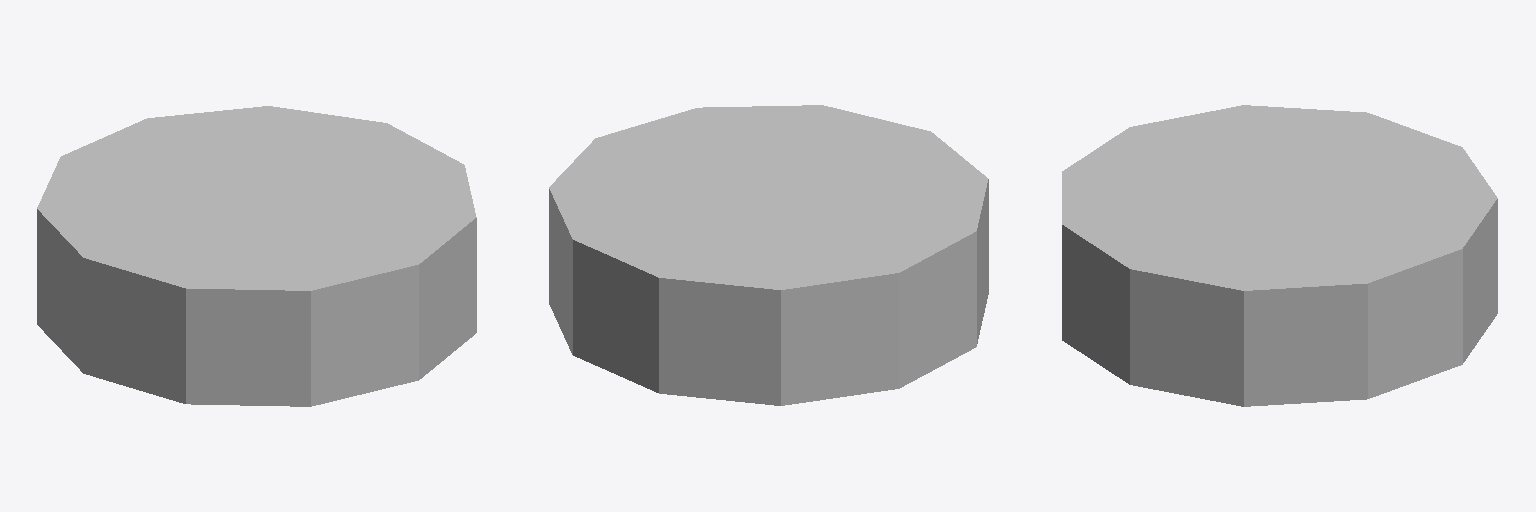
Rendered from hen1.obj.
3 renders of one model, left to right at view 1: azimuth 30°, elevation 25°; view 2: azimuth 150°, elevation 25°; view 3: azimuth 270°, elevation 25°, orthographic.
Parts seen in each view (by area): view 1: Circle; view 2: Circle; view 3: Circle.
Part boxes in pixels (x1,y1,x2,y2): Circle: (37,106,476,406); Circle: (549,105,988,405); Circle: (1062,105,1497,406).
Size of the model in its own units: 1.98 by 0.5751 by 1.96.